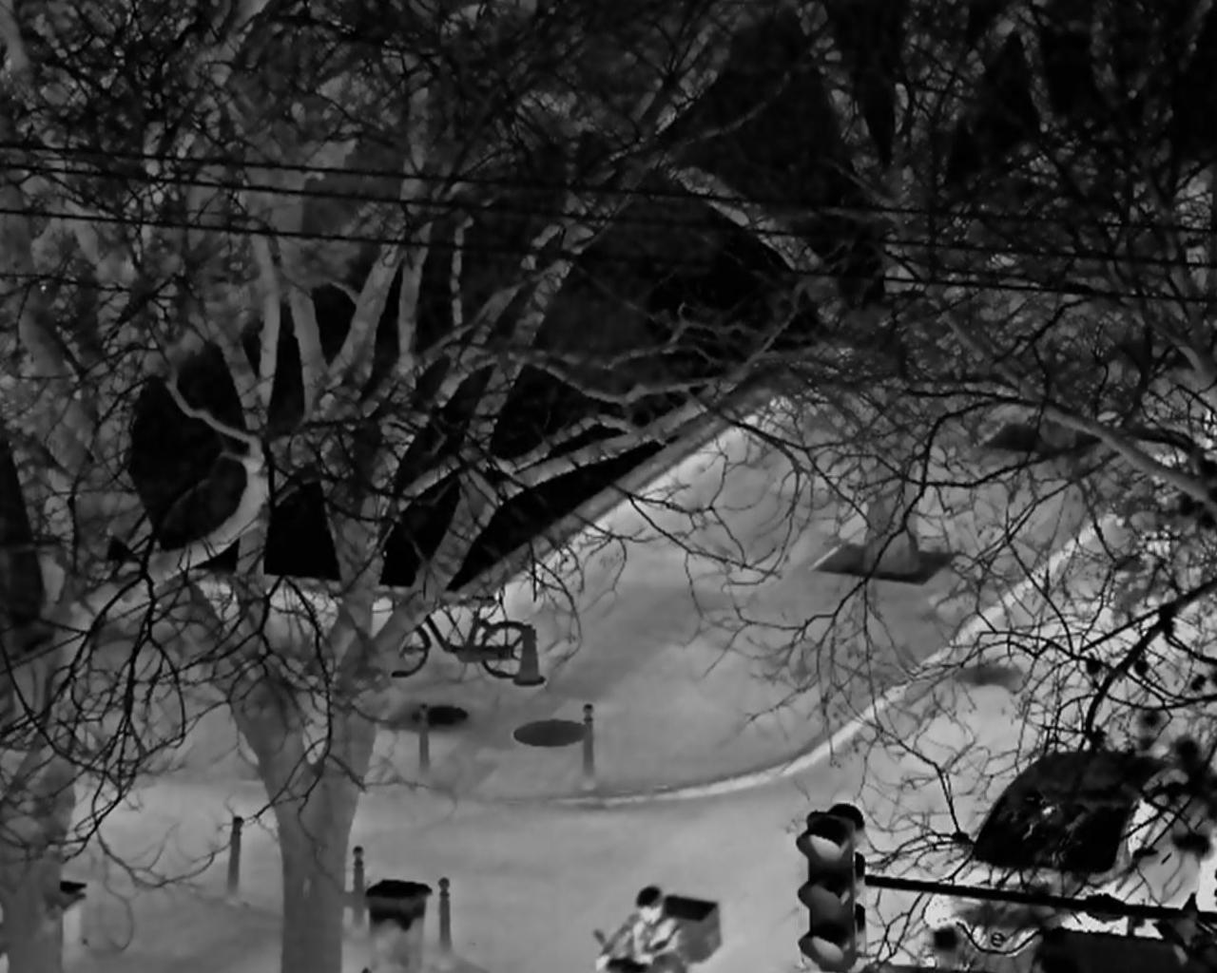person: (595, 885, 681, 972)
